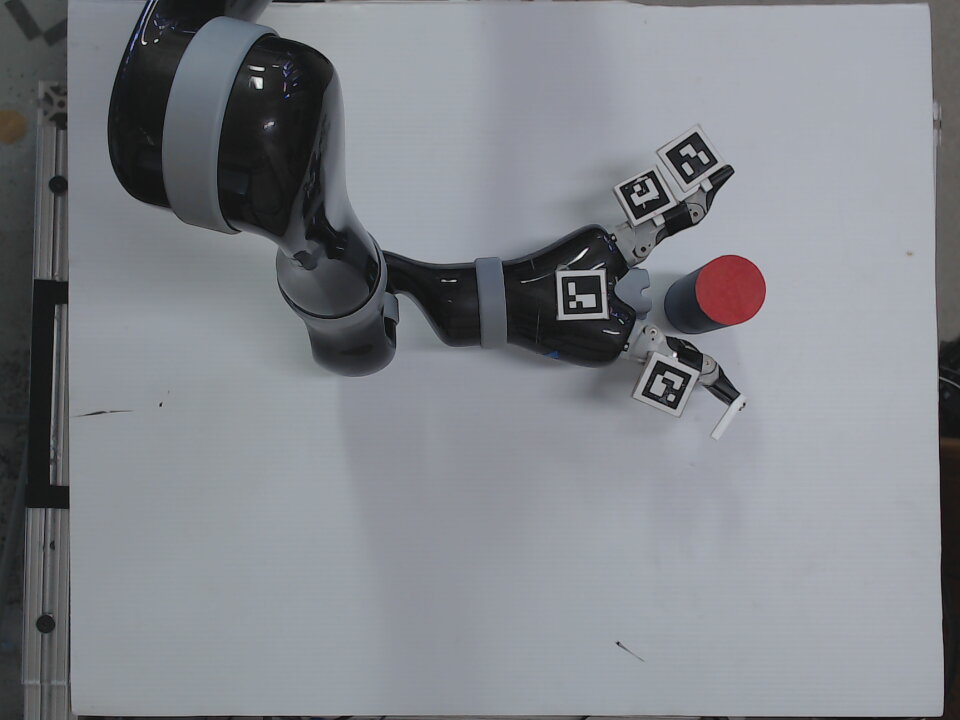cylinder: (661, 252, 770, 337)
